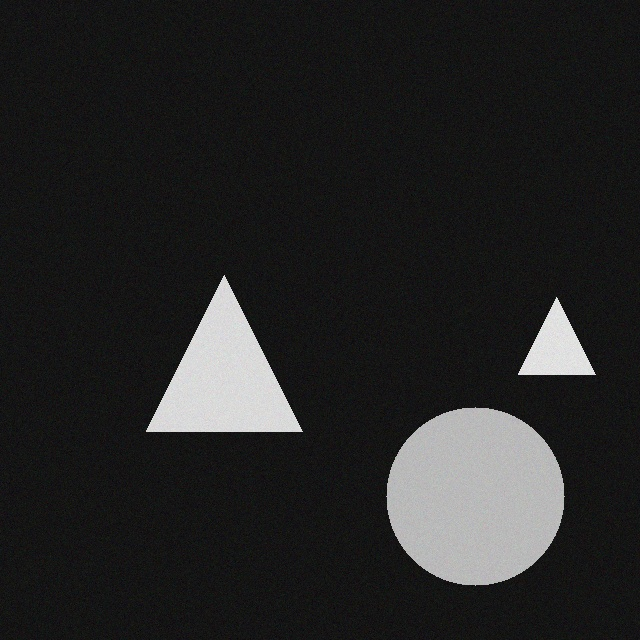circle: (401, 416, 579, 594)
triangle: (161, 284, 317, 440), (533, 306, 610, 383)
